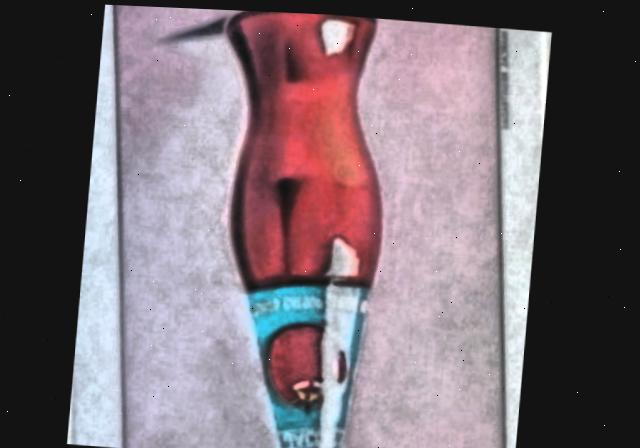La Botella: (111, 4, 510, 448)
